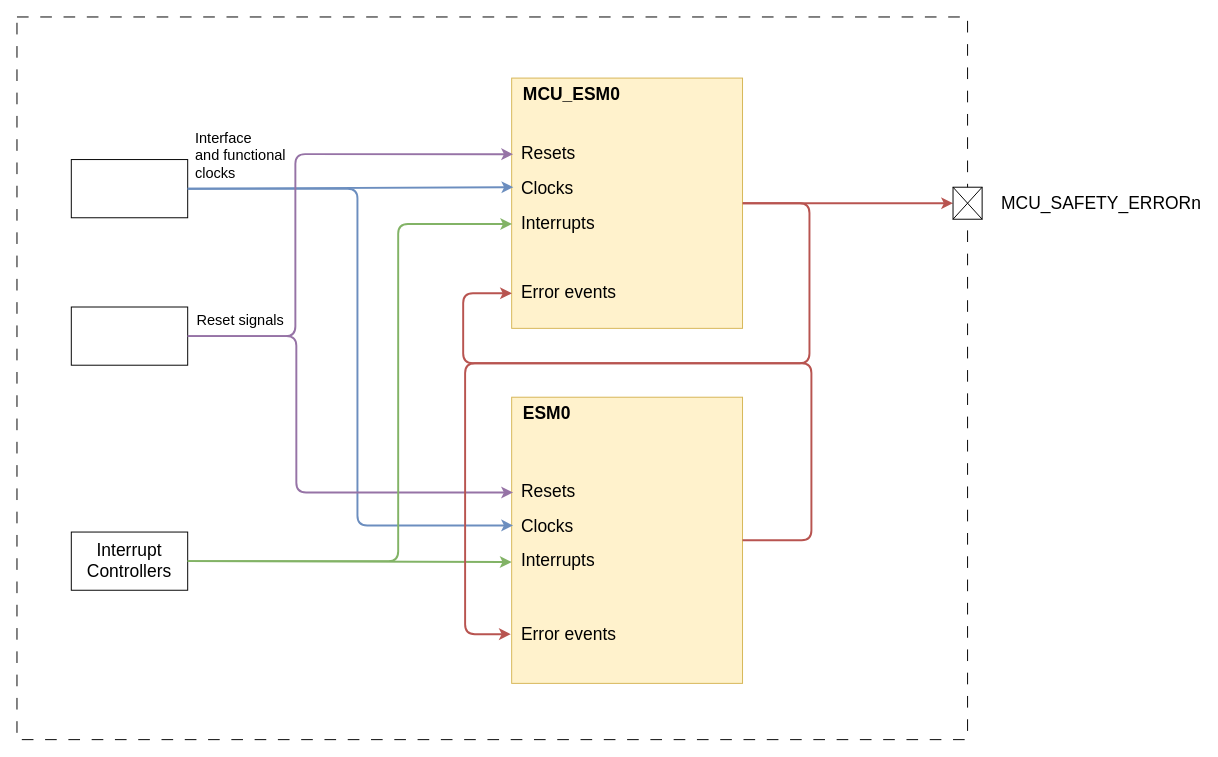
This 1218x757 diagram has some shape labels left out. Each missing label, with the centre of its shape:
"PLL Controllers" goes at point 129,188.
"Reset Controllers" goes at point 129,335.
